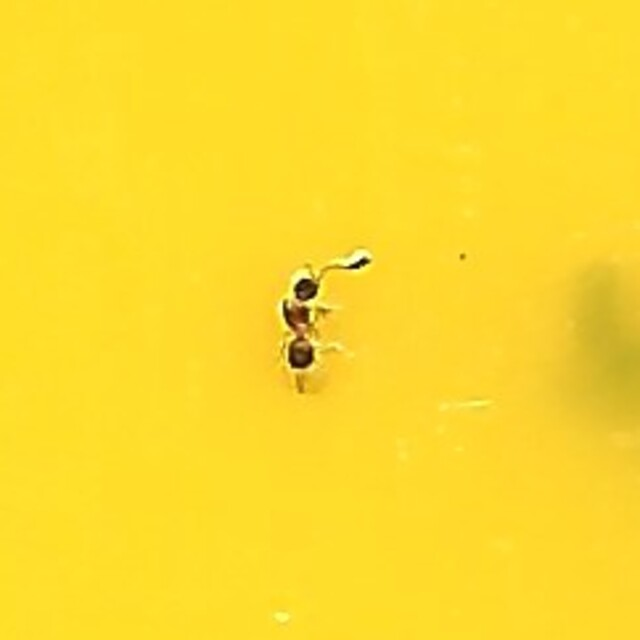Hymenoptera: (264, 249, 376, 391)
